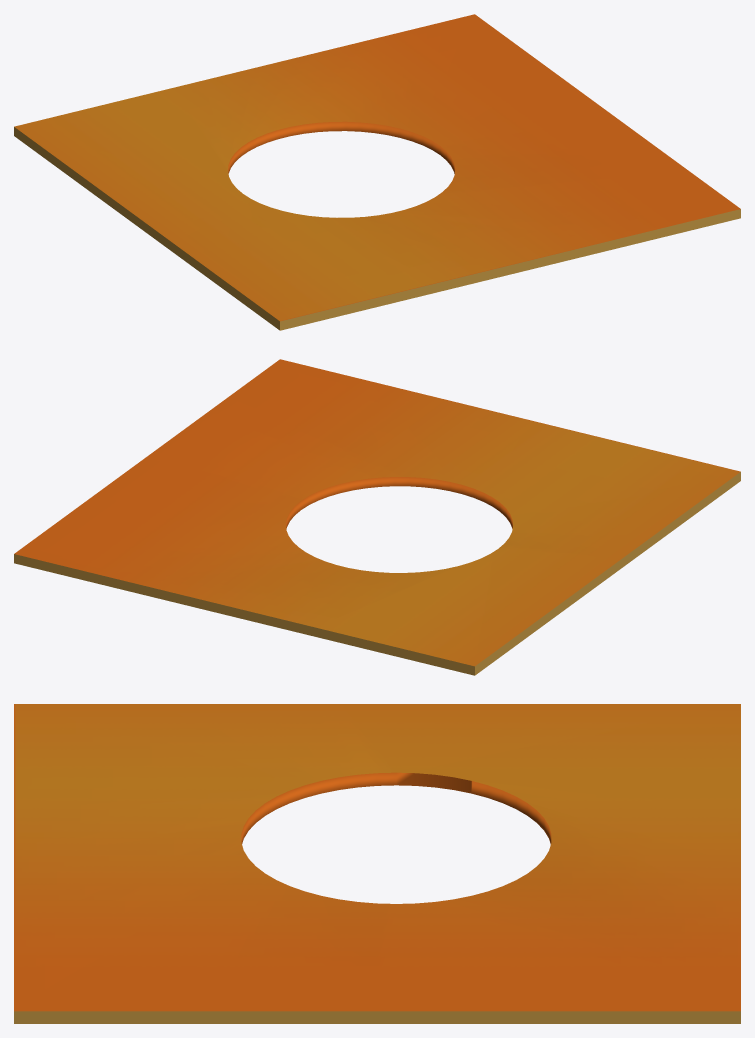
Rendered from ceiling.fbx.
The picture shows the model from 3 angles, top to bottom: view 1: azimuth 30°, elevation 25°; view 2: azimuth 150°, elevation 25°; view 3: azimuth 270°, elevation 25°; orthographic projection. The views are drawn at different scales.
Visible parts, largest first — view 1: pCube21; view 2: pCube21; view 3: pCube21.
Part boxes in pixels (left/top/right/bottom): pCube21: left=14, top=14, right=740, bottom=330; pCube21: left=14, top=359, right=740, bottom=675; pCube21: left=14, top=704, right=740, bottom=1023.
Size of the model in its own units: 45.79 by 0.8859 by 45.79.
